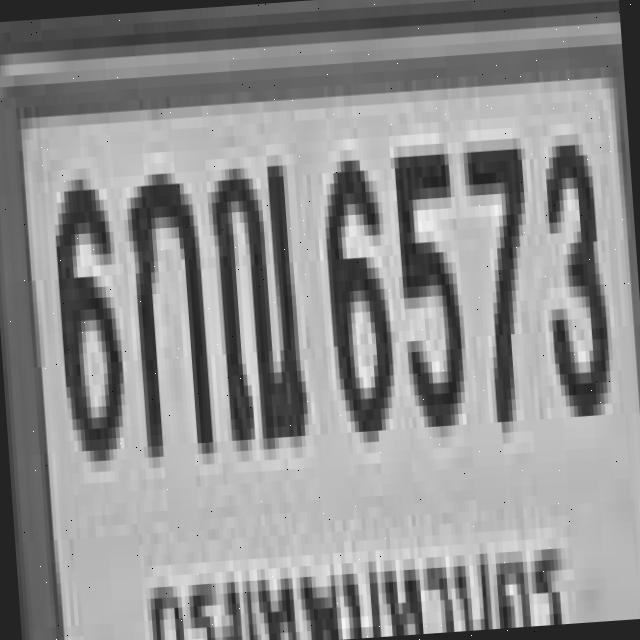10GorGai: (120, 161, 209, 447)
28NorNen: (204, 143, 305, 441)
3: (534, 122, 608, 407)
5: (388, 138, 462, 422)
6: (316, 148, 394, 433), (46, 167, 124, 452)
7: (458, 127, 536, 423)
